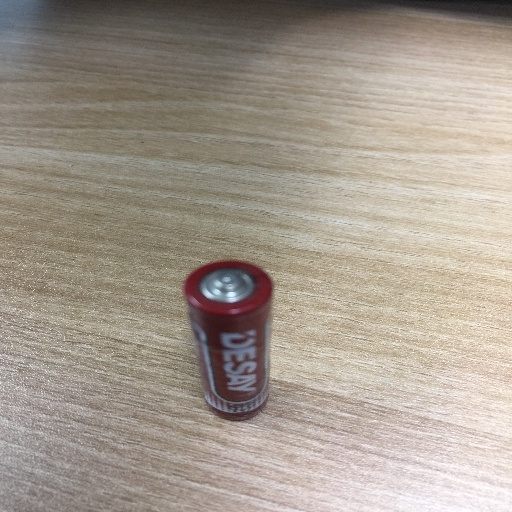Battery_0: (177, 251, 289, 432)
